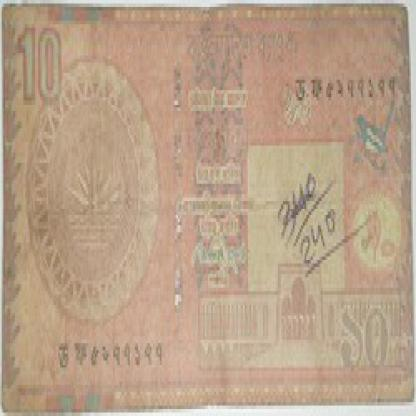Ten Taka: (12, 17, 80, 111), (336, 291, 393, 382)
